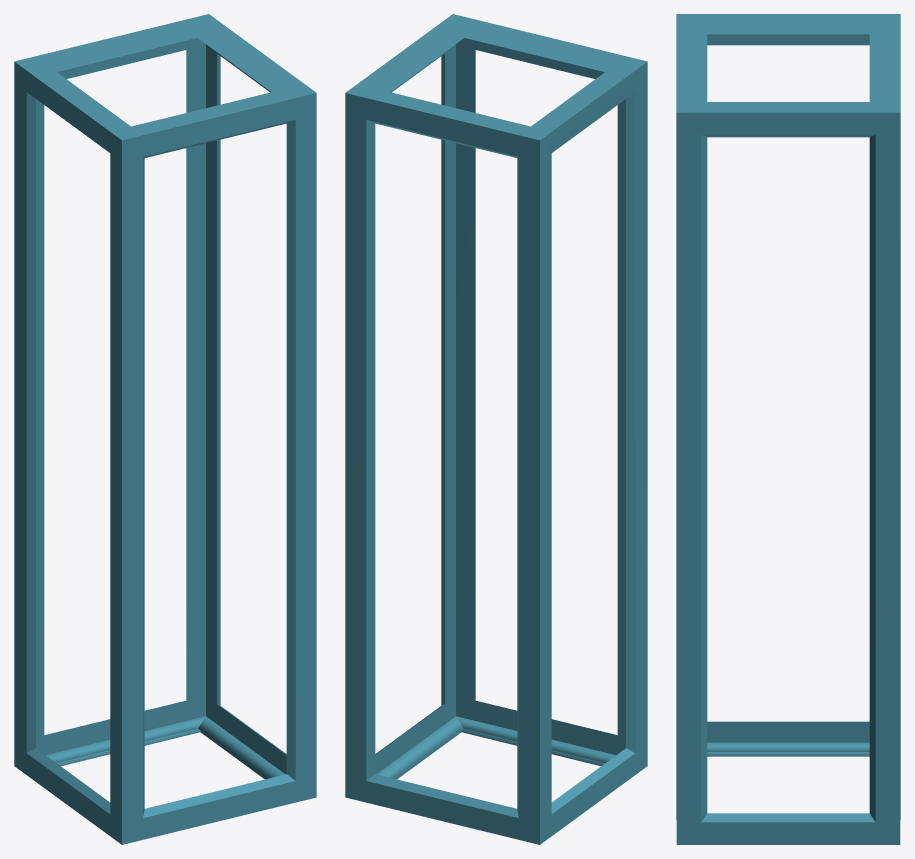
Rendered from Door_Open.fbx.
The picture shows the model from 3 angles, left to right: view 1: azimuth 30°, elevation 25°; view 2: azimuth 150°, elevation 25°; view 3: azimuth 270°, elevation 25°; orthographic projection. The views are drawn at different scales.
Visible parts, largest first — view 1: Box001; view 2: Box001; view 3: Box001.
Boxes of the visible parts, x1,y1,x2,y2 form: Box001: (14,14,316,844); Box001: (345,14,647,844); Box001: (676,14,900,844).
Bounding box in the file's own units: 42.1 × 146 × 40.38.
1 material, 1 textured.
